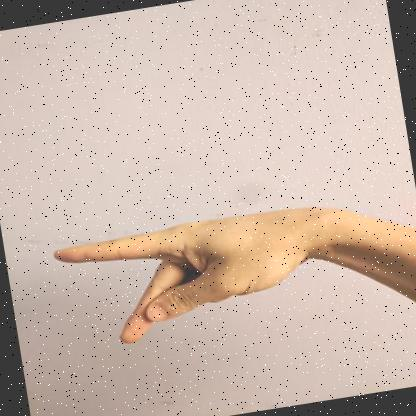P: (53, 207, 319, 343)
